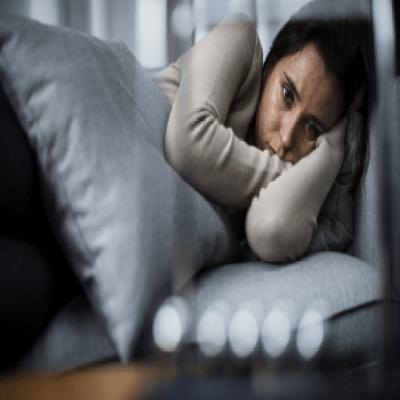sad: (264, 42, 326, 162)
